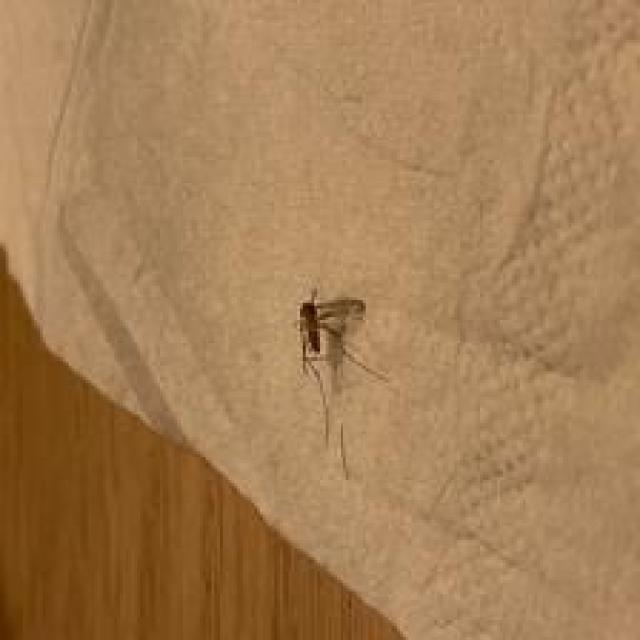Culex: (293, 286, 393, 480)
